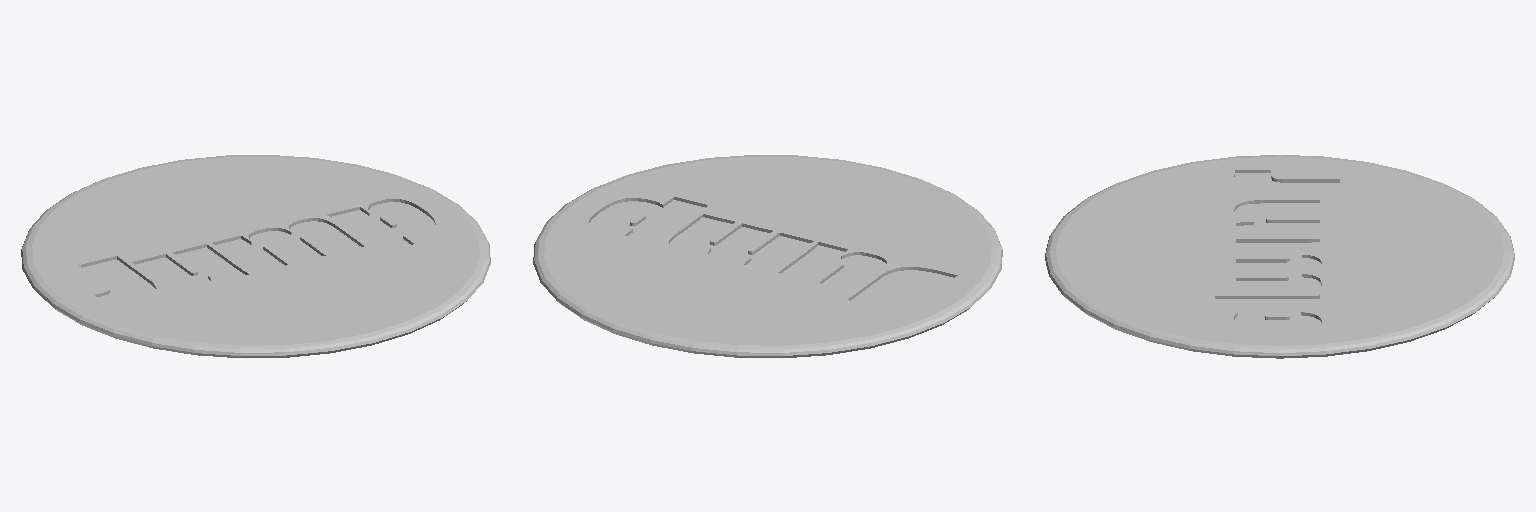
Rendered from Jump.obj.
3 views of the same model, side by side, from view 1: azimuth 30°, elevation 25°; view 2: azimuth 150°, elevation 25°; view 3: azimuth 270°, elevation 25° (orthographic).
Visible parts, largest first — view 1: Jump; view 2: Jump; view 3: Jump.
Part boxes in pixels (left/top/right/bottom): Jump: left=21, top=155, right=490, bottom=357; Jump: left=533, top=155, right=1002, bottom=357; Jump: left=1045, top=155, right=1514, bottom=358.
Size of the model in its own units: 2.06 by 0.0462 by 2.06.